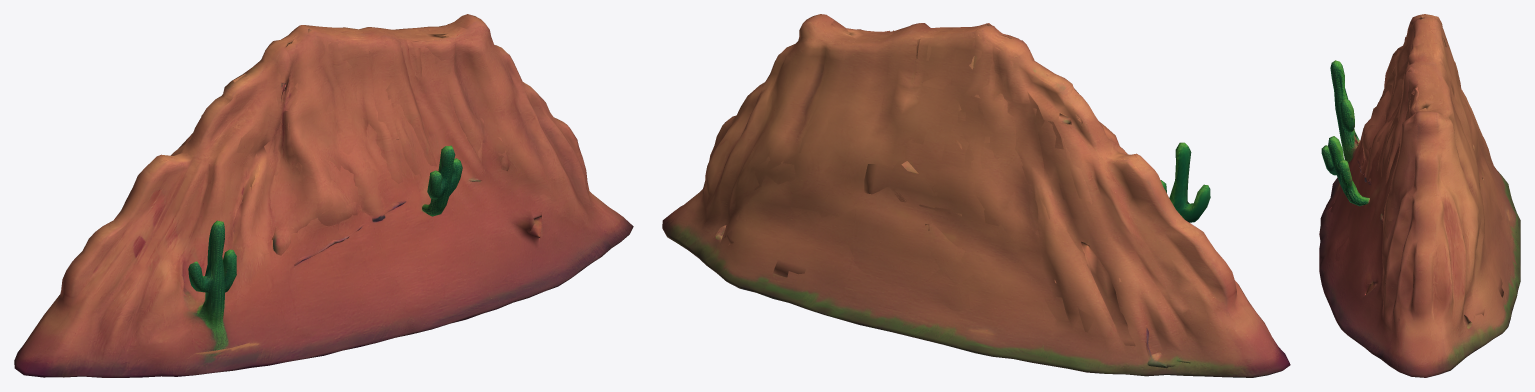
Rendered from copper_mine_trail_slice_v2.glb.
3 renders of one model, left to right at view 1: azimuth 30°, elevation 25°; view 2: azimuth 150°, elevation 25°; view 3: azimuth 270°, elevation 25°, orthographic. The views are drawn at different scales.
Size of the model in its own units: 1.91 by 0.8063 by 0.6419.
Materials: 1 (1 with a texture image).
